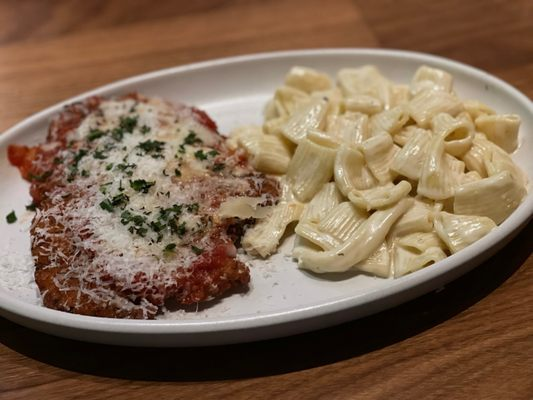curry: (3, 0, 532, 400)
